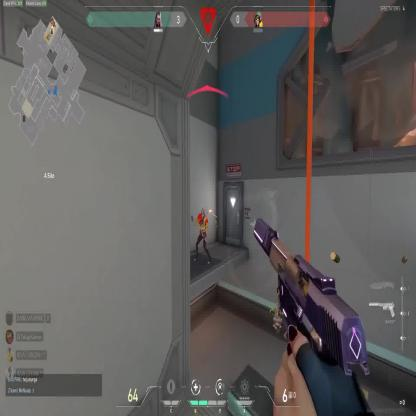enemy: (194, 208, 211, 264)
enemy_head: (201, 208, 205, 219)
